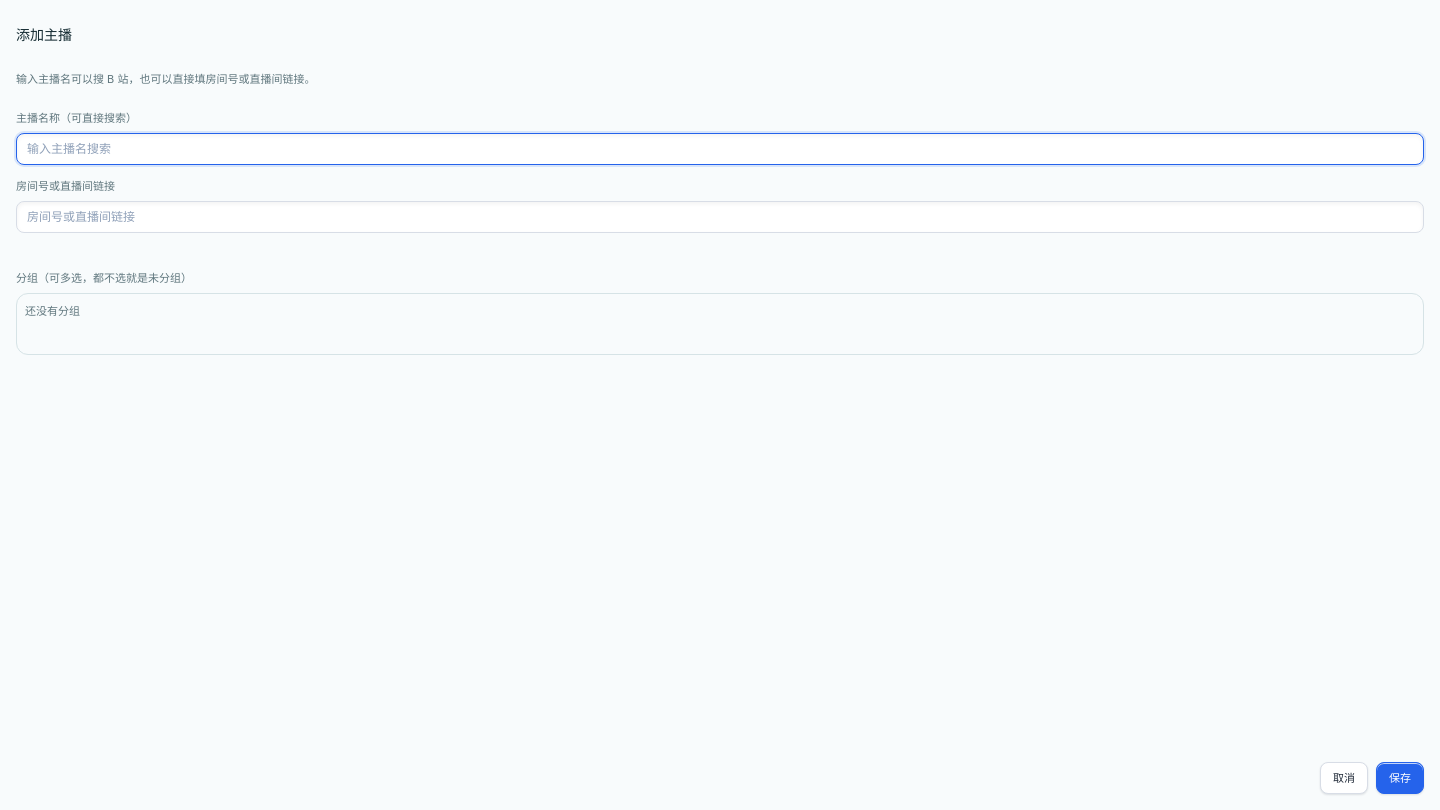
it: 缺名字时保存被拦下并给出老版文案
The width and height of the screenshot is (1440, 810).
Expected: the heading "添加主播" is shown, [16, 26, 72, 43]
Type "123456" into the field labelled "房间号或直播间链接" at (720, 217), box [16, 201, 1424, 233]
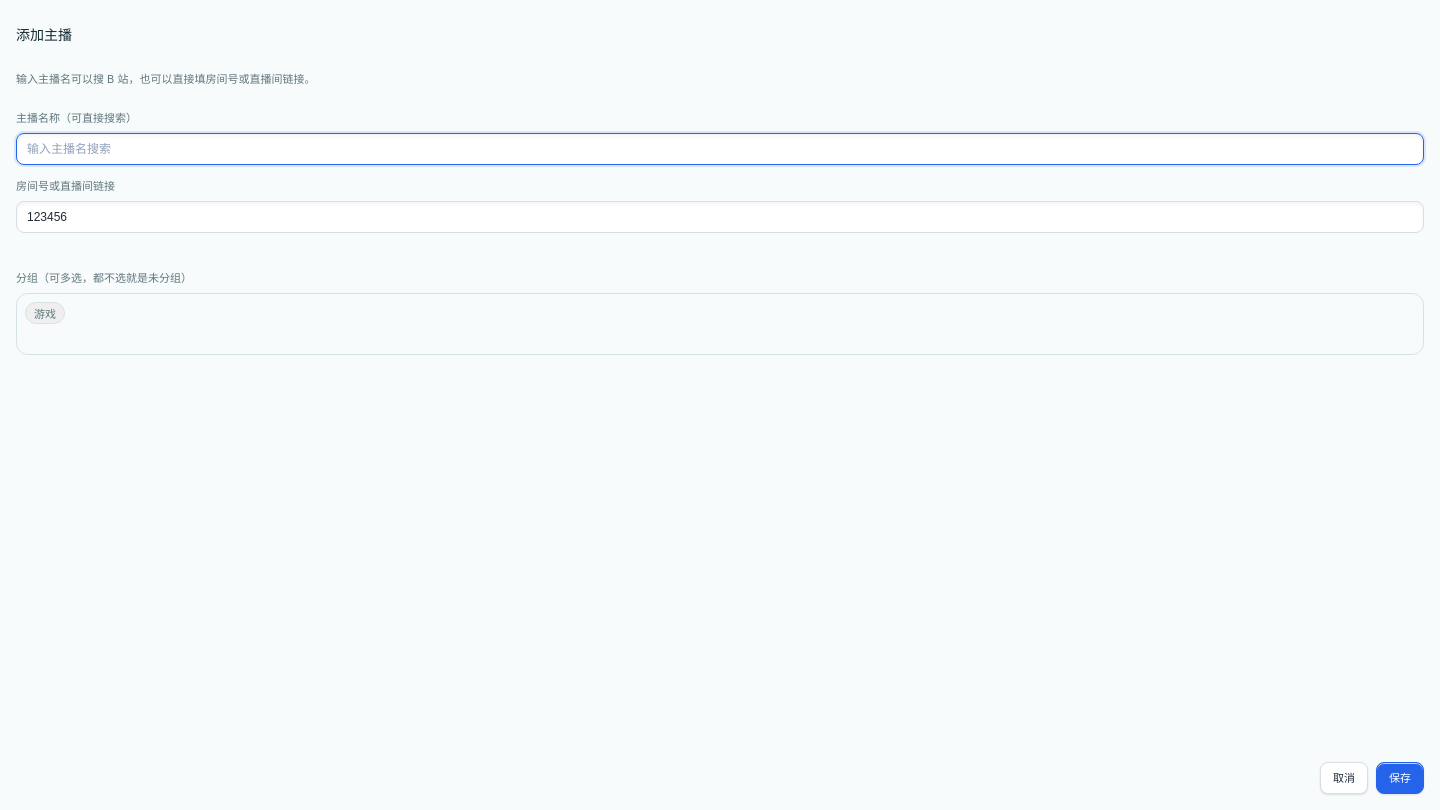
Click the button "保存" at (1400, 778), box [1376, 762, 1424, 794]
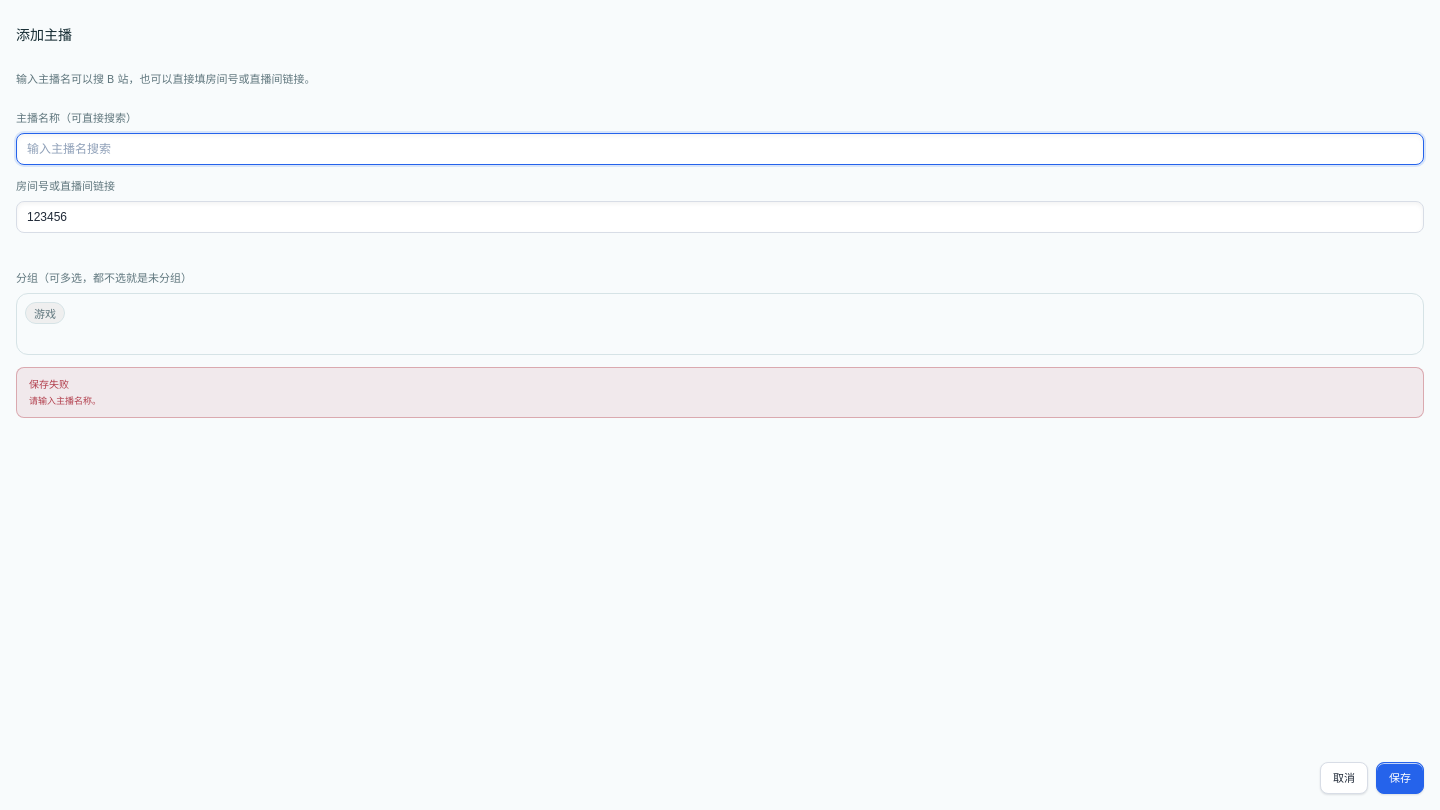
Expected: the text "请输入主播名称。" is shown, [29, 395, 101, 406]
